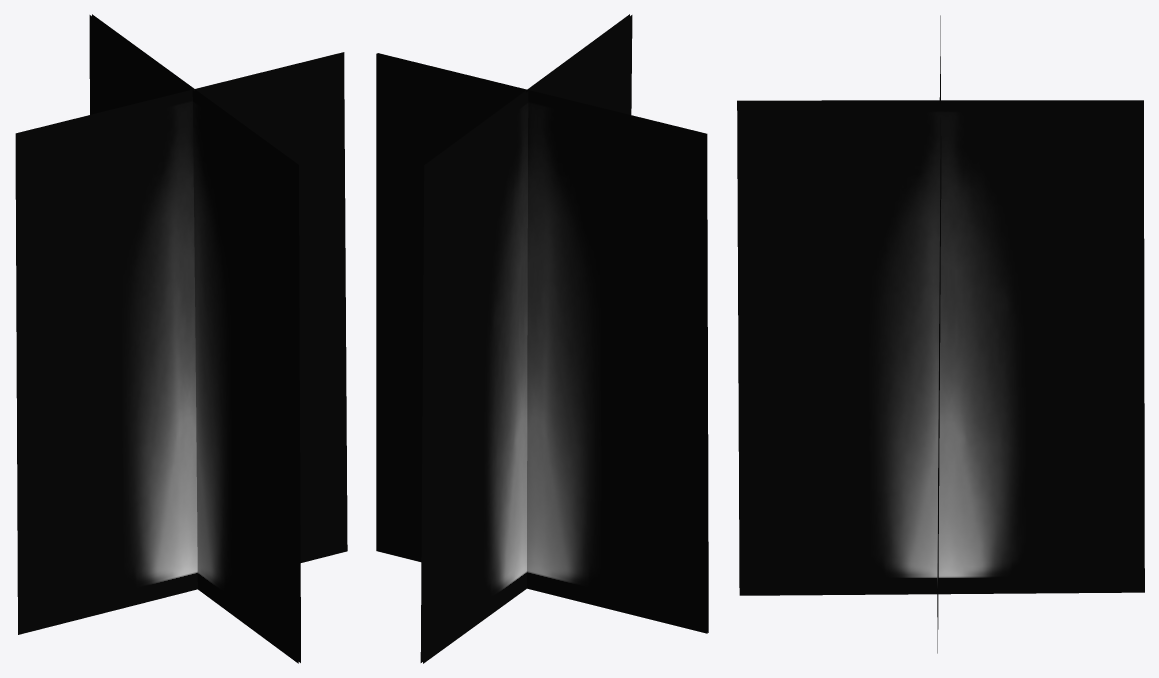
3 renders of one model, left to right at view 1: azimuth 30°, elevation 25°; view 2: azimuth 150°, elevation 25°; view 3: azimuth 270°, elevation 25°, orthographic.
Visible parts, largest first — view 1: plane_010; view 2: plane_010; view 3: plane_010.
Boxes of the visible parts, x1,y1,x2,y2 form: plane_010: (15,14,347,663); plane_010: (376,14,708,663); plane_010: (737,15,1144,653).
Size of the model in its own units: 19.76 by 28.61 by 21.4.
